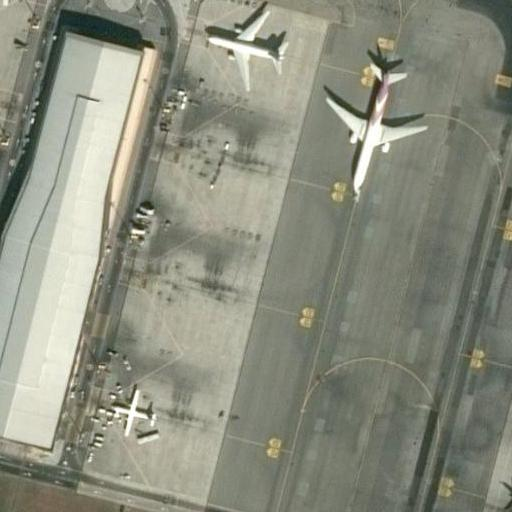Aircraft: (314, 50, 434, 193), (203, 0, 292, 85), (111, 383, 155, 437), (499, 461, 512, 512), (0, 0, 19, 6)
